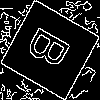B: (25, 24, 80, 76)
